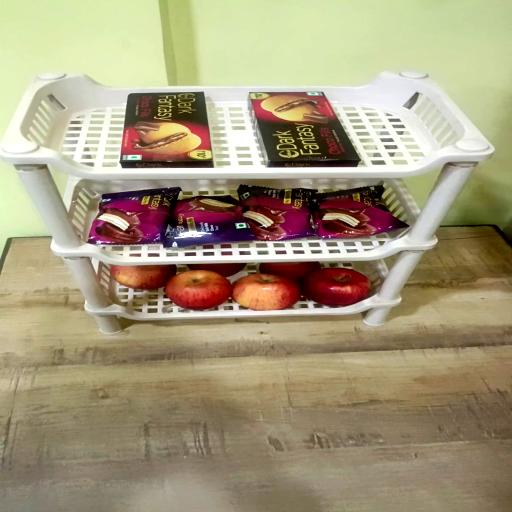Apple: (166, 271, 232, 311), (302, 269, 371, 307), (234, 274, 302, 312), (109, 266, 175, 291), (259, 262, 320, 281), (188, 264, 247, 278)
Choco Fills: (250, 90, 360, 166), (119, 90, 211, 167)
Choco Pie: (87, 189, 180, 246), (312, 187, 408, 241), (165, 198, 256, 249), (238, 188, 320, 244)
